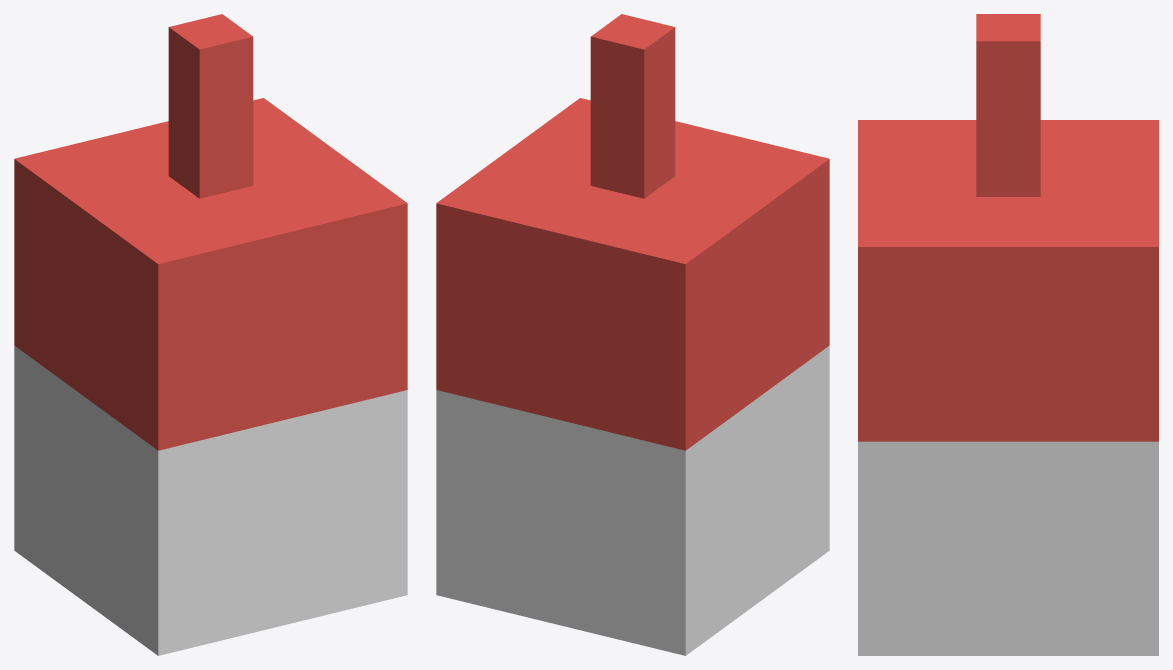
Rendered from bobber.gltf.
3 renders of one model, left to right at view 1: azimuth 30°, elevation 25°; view 2: azimuth 150°, elevation 25°; view 3: azimuth 270°, elevation 25°, orthographic. The views are drawn at different scales.
Parts seen in each view (by area): view 1: bobber; view 2: bobber; view 3: bobber.
Part boxes in pixels (x1,y1,x2,y2): bobber: [14, 14, 407, 655]; bobber: [436, 14, 829, 655]; bobber: [858, 14, 1158, 655].
Bounding box in the file's own units: 0.14 × 0.29 × 0.14.
